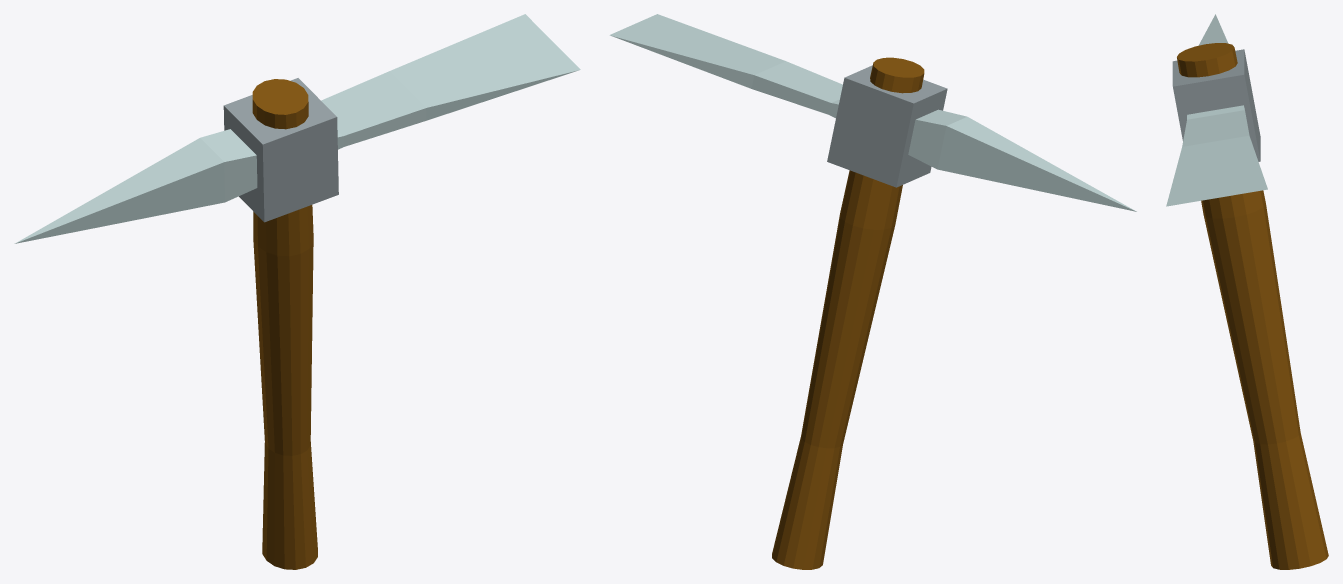
File: PickAxeTEST.fbx
3 views of the same model, side by side, from view 1: azimuth 30°, elevation 25°; view 2: azimuth 150°, elevation 25°; view 3: azimuth 270°, elevation 25° (orthographic). The views are drawn at different scales.
Visible parts, largest first — view 1: Cube; view 2: Cube; view 3: Cube.
Boxes of the visible parts, x1,y1,x2,y2 form: Cube: (14, 14, 580, 569); Cube: (609, 14, 1136, 569); Cube: (1166, 14, 1328, 569).
Size of the model in its own units: 247 by 226 by 67.66.
